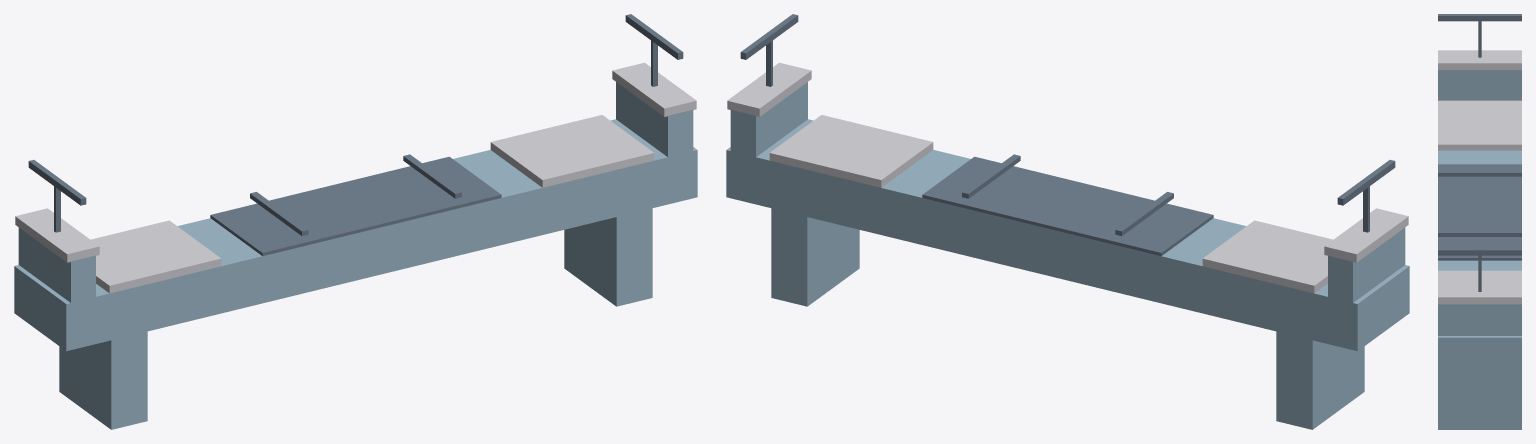
Rendered from LayeredRailCurve.fbx.
The picture shows the model from 3 angles, left to right: view 1: azimuth 30°, elevation 25°; view 2: azimuth 150°, elevation 25°; view 3: azimuth 270°, elevation 25°; orthographic projection. The views are drawn at different scales.
Visible parts, largest first — view 1: LayeredRailCurve_LM_Mineral, LayeredRailCurve_LM_Stone, LayeredRailCurve_LM_Ink; view 2: LayeredRailCurve_LM_Mineral, LayeredRailCurve_LM_Stone, LayeredRailCurve_LM_Ink; view 3: LayeredRailCurve_LM_Mineral, LayeredRailCurve_LM_Ink, LayeredRailCurve_LM_Stone.
Part boxes in pixels (<box>): LayeredRailCurve_LM_Mineral: <box>14,82,697,429</box>; LayeredRailCurve_LM_Stone: <box>15,62,696,293</box>; LayeredRailCurve_LM_Ink: <box>28,14,683,256</box>; LayeredRailCurve_LM_Mineral: <box>726,82,1409,429</box>; LayeredRailCurve_LM_Stone: <box>727,62,1408,293</box>; LayeredRailCurve_LM_Ink: <box>740,14,1395,256</box>; LayeredRailCurve_LM_Mineral: <box>1438,70,1521,429</box>; LayeredRailCurve_LM_Ink: <box>1438,14,1521,291</box>; LayeredRailCurve_LM_Stone: <box>1438,50,1521,304</box>.
Size of the model in its own units: 7 by 2.53 by 1.
